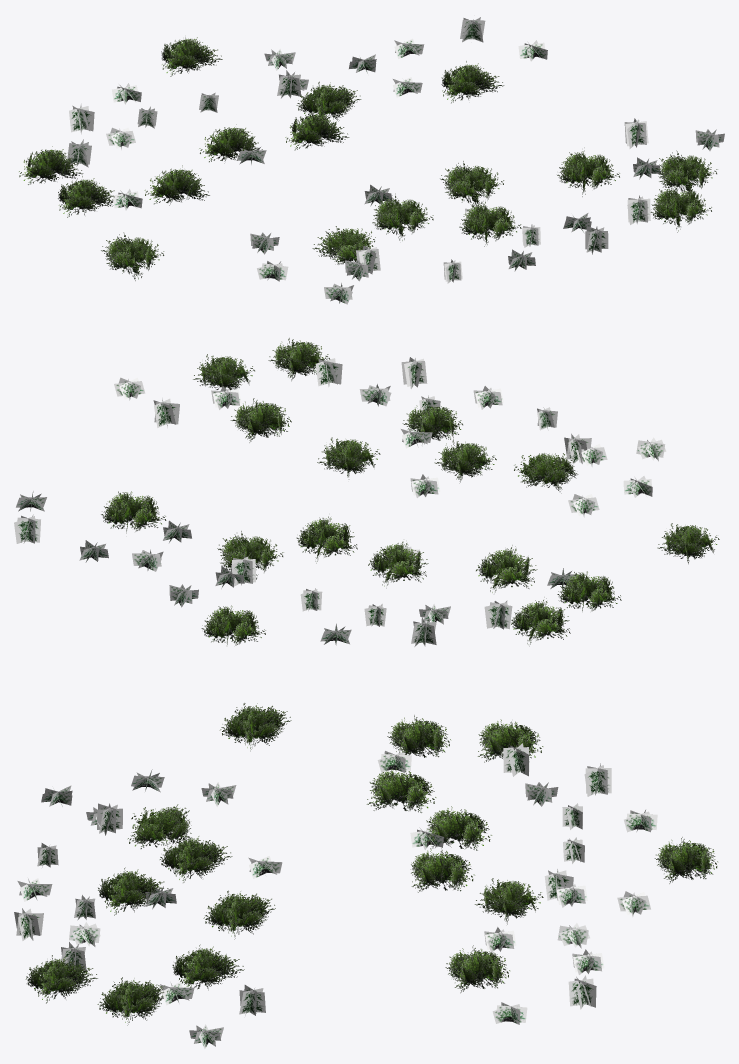
File: bamboo(road).fbx
3 renders of one model, top to bottom at view 1: azimuth 30°, elevation 25°; view 2: azimuth 150°, elevation 25°; view 3: azimuth 270°, elevation 25°, orthographic. The views are drawn at different scales.
Visible parts, largest first — view 1: obj56, obj58, obj1, obj57, 低木, obj53, obj55, obj75, obj77, obj79, obj73, 低木1 (+12 smaller); view 2: obj77, obj73, obj76, obj78, obj74, obj79, 低木1, obj1, obj54, obj57, obj56, obj75 (+11 smaller); view 3: obj73, obj56, obj57, obj58, 低木, obj1, obj53, obj78, obj77, obj54, obj76, obj79 (+18 smaller).
Part boxes in pixels (x1,y1,x2,y2): obj56: (440,161,504,208); obj58: (101,232,164,280); obj1: (557,147,619,196); obj57: (372,193,433,240); 低木: (655,150,717,192); obj53: (650,185,711,232); obj55: (459,201,521,246); obj75: (296,81,361,121); obj77: (441,61,504,103); obj79: (161,37,222,76); obj73: (144,165,209,205); 低木1: (58,176,119,217); obj77: (101,491,166,533); obj73: (476,545,537,592); obj76: (368,541,428,588); obj78: (296,516,357,563); obj74: (511,597,570,646); obj79: (201,605,265,645); 低木1: (557,571,621,611); obj1: (230,398,291,442); obj54: (514,453,578,493); obj57: (434,439,496,483); obj56: (317,437,380,479); obj75: (217,531,283,579); obj73: (366,768,436,812); obj56: (203,890,275,939); obj57: (159,834,232,882); obj58: (219,703,291,751); 低木: (97,977,168,1025); obj1: (172,944,244,990); obj53: (25,955,97,1003); obj78: (410,847,475,892); obj77: (445,945,510,993); obj54: (127,804,191,848); obj76: (423,806,492,850); obj79: (654,837,718,883).
Bounding box in the file's own units: 71.82 × 6.38 × 65.74.
